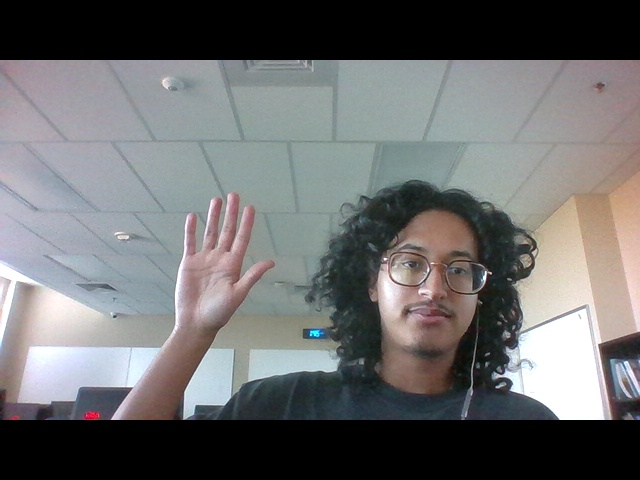hello: (166, 187, 281, 339)
